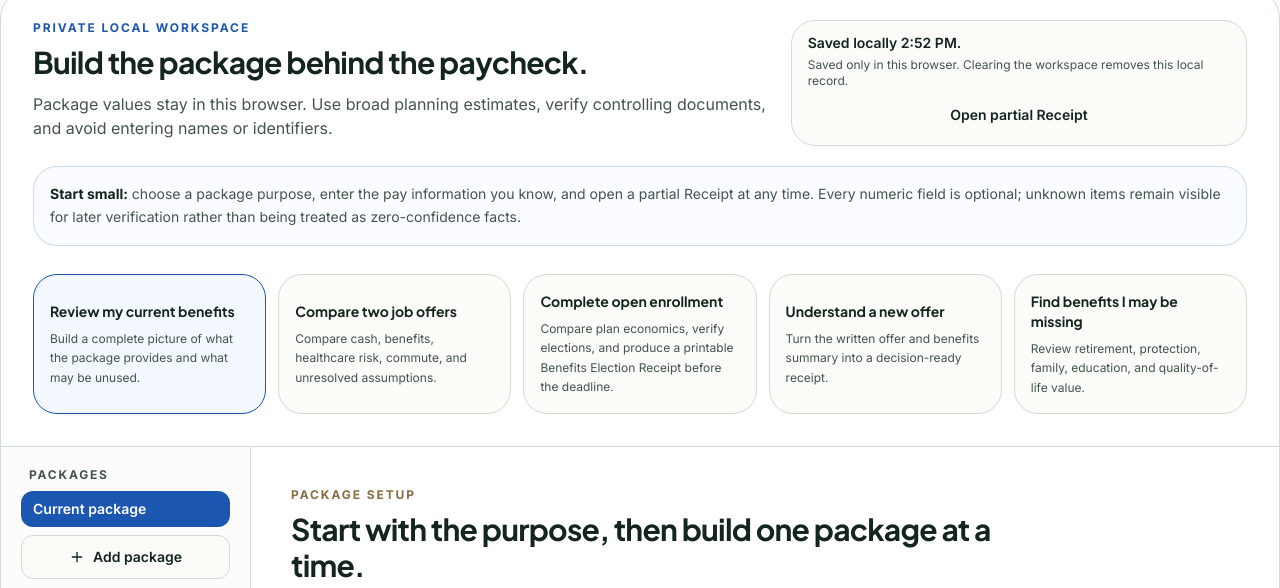
BenefitsCommandCenterWorkspace › adds a second package and exposes the comparison workspace without declaring a winner
Click the button "Add package" at (126, 557), box [21, 535, 230, 579]
(page scrolled)
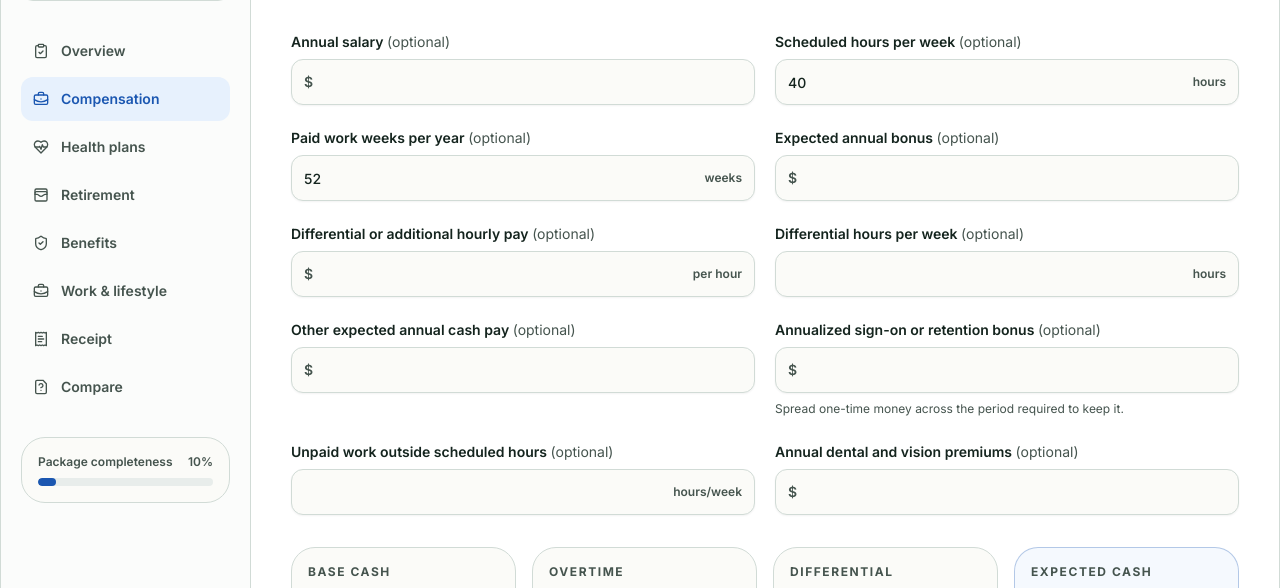
Click the button "Compare" at (126, 387), box [21, 365, 230, 409]
(page scrolled)
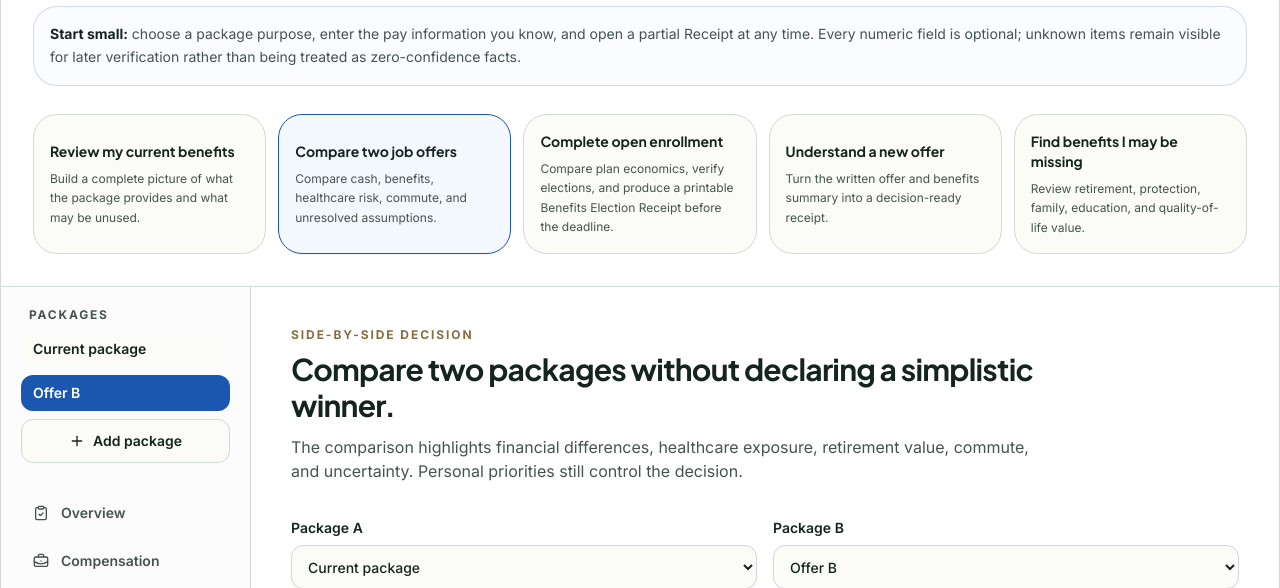
expect the heading "Compare two packages without declaring a simplistic winner." is shown: met, box [291, 351, 1059, 423]
